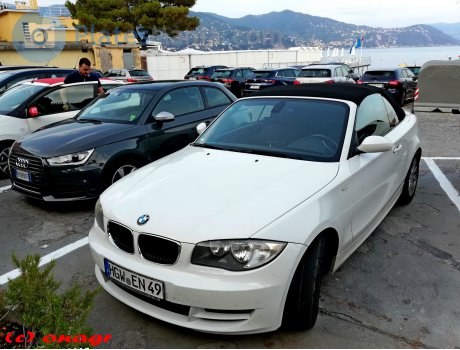License Plates: (109, 266, 160, 290)
